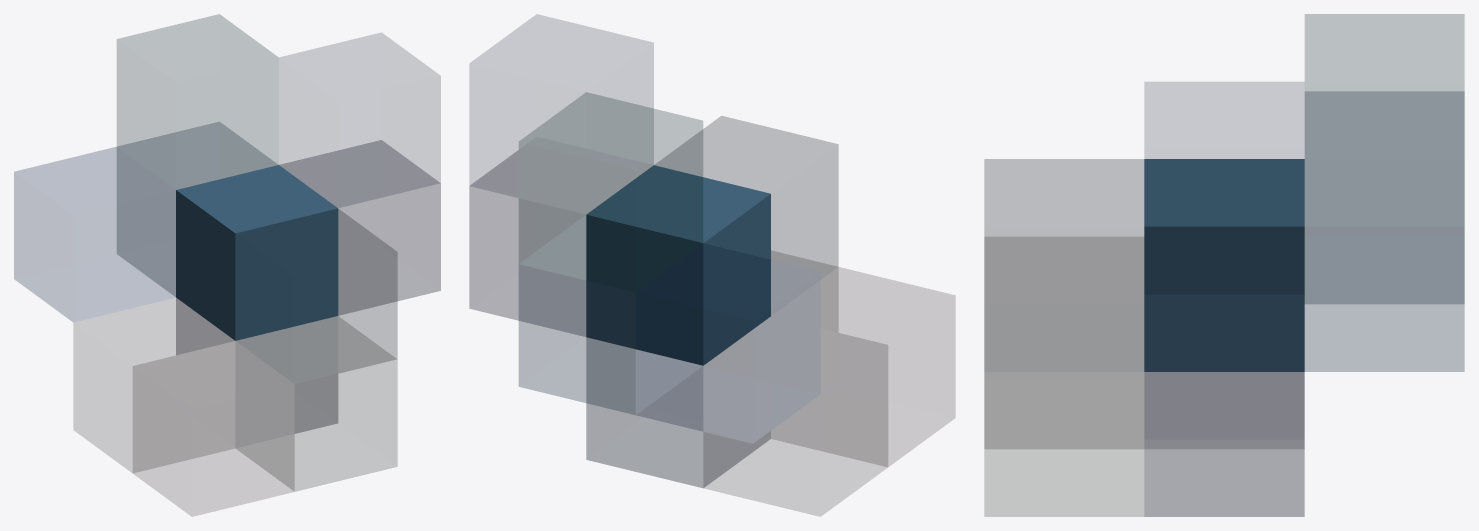
Rendered from iter_20.obj.
The picture shows the model from 3 angles, left to right: view 1: azimuth 30°, elevation 25°; view 2: azimuth 150°, elevation 25°; view 3: azimuth 270°, elevation 25°; orthographic projection. The views are drawn at different scales.
Visible parts, largest first — view 1: iter_20; view 2: iter_20; view 3: iter_20.
Boxes of the visible parts, box(x1,y1,x2,y2) form: iter_20: box(14, 14, 440, 516); iter_20: box(469, 14, 954, 516); iter_20: box(984, 14, 1464, 516).
Size of the model in its own units: 0.3 by 0.3 by 0.3.
